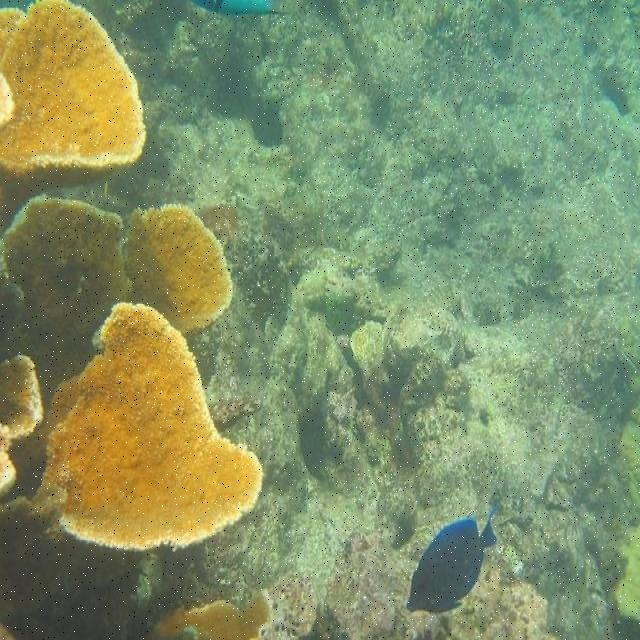fish: (407, 508, 498, 613)
reefs: (31, 301, 263, 552), (0, 196, 234, 413), (0, 1, 146, 233)
